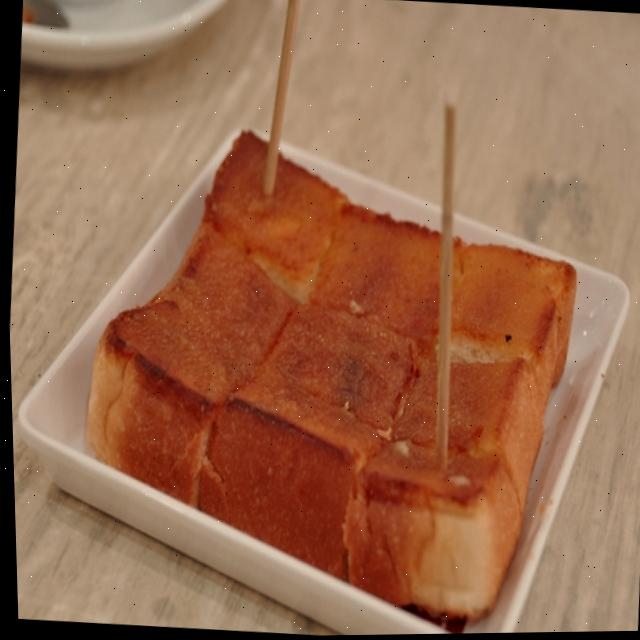面包点心: (41, 57, 609, 640)
